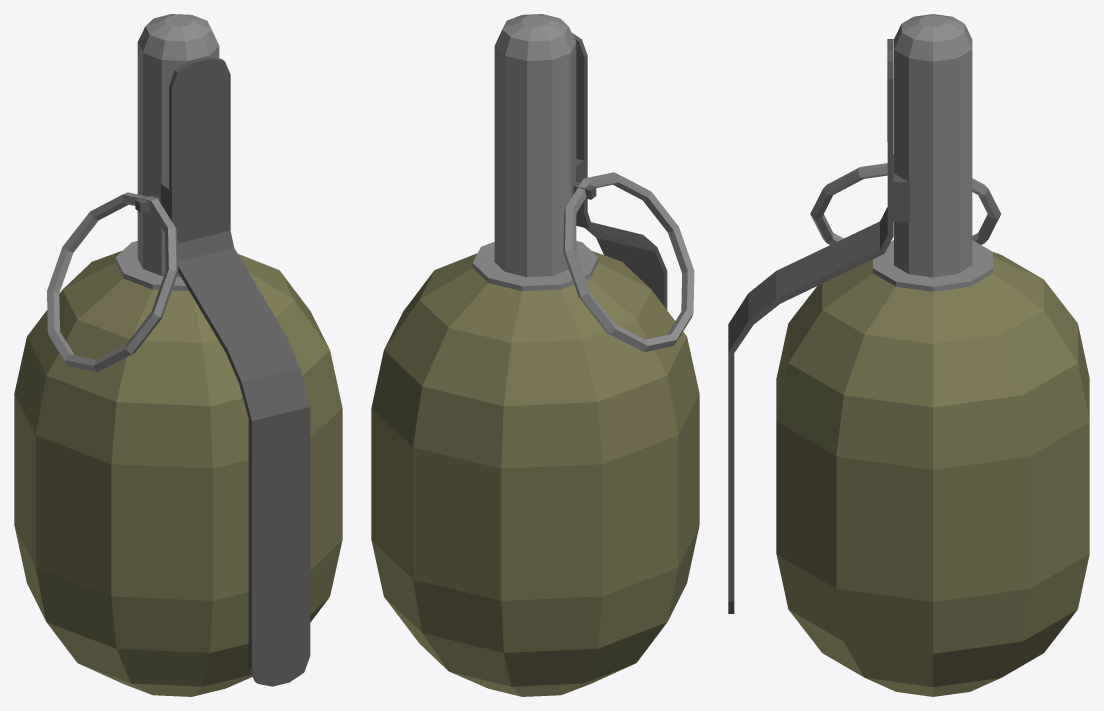
Rendered from gren_sticky.glb.
The picture shows the model from 3 angles, left to right: view 1: azimuth 30°, elevation 25°; view 2: azimuth 150°, elevation 25°; view 3: azimuth 270°, elevation 25°; orthographic projection.
Parts seen in each view (by area): view 1: StickyGrenade_0, 01_0, Pin_0; view 2: StickyGrenade_0, Pin_0, 01_0; view 3: StickyGrenade_0, 01_0, Pin_0.
Boxes of the visible parts, x1,y1,x2,y2 form: StickyGrenade_0: (14, 14, 342, 696); 01_0: (135, 56, 310, 686); Pin_0: (47, 192, 177, 372); StickyGrenade_0: (371, 14, 699, 696); Pin_0: (563, 172, 694, 352); 01_0: (572, 33, 667, 309); StickyGrenade_0: (776, 14, 1089, 696); 01_0: (728, 39, 910, 613); Pin_0: (810, 163, 1000, 244).
Bounding box in the file's own units: 0.0709 × 0.1568 × 0.0778.
Materials: 1 (1 with a texture image).
